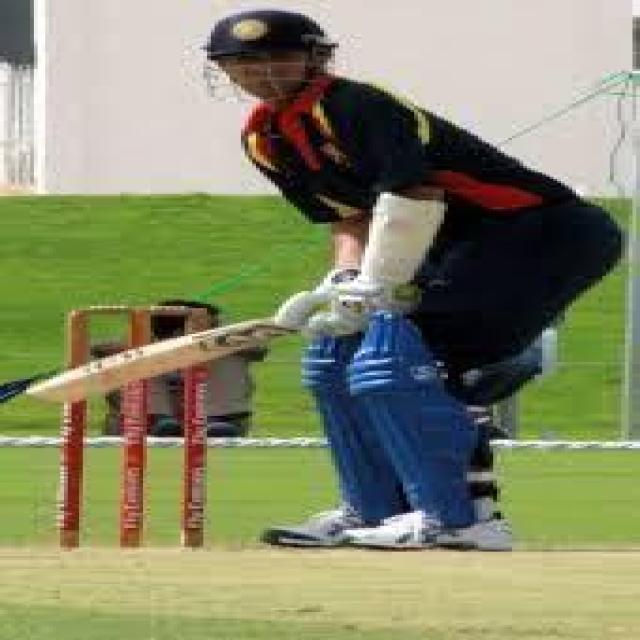bat: (17, 314, 282, 409)
toe: (12, 380, 86, 413)
